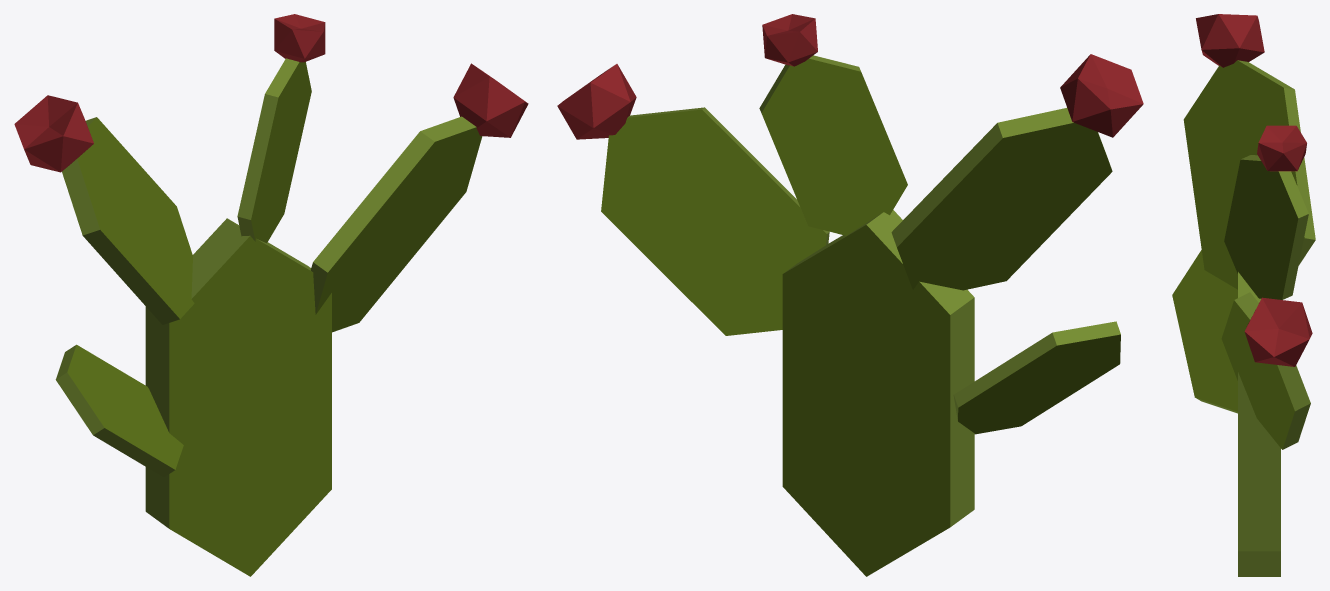
The model's file is TB_D_Env_CactusG_A.FBX.
3 views of the same model, side by side, from view 1: azimuth 30°, elevation 25°; view 2: azimuth 150°, elevation 25°; view 3: azimuth 270°, elevation 25° (orthographic). The views are drawn at different scales.
Parts seen in each view (by area): view 1: TB_D_Env_CactusG_A; view 2: TB_D_Env_CactusG_A; view 3: TB_D_Env_CactusG_A.
Boxes of the visible parts, <box> form: TB_D_Env_CactusG_A: <box>14,14,528,576</box>; TB_D_Env_CactusG_A: <box>557,14,1143,576</box>; TB_D_Env_CactusG_A: <box>1172,14,1315,576</box>.
Bounding box in the file's own units: 1.09 × 1.03 × 0.2787.
